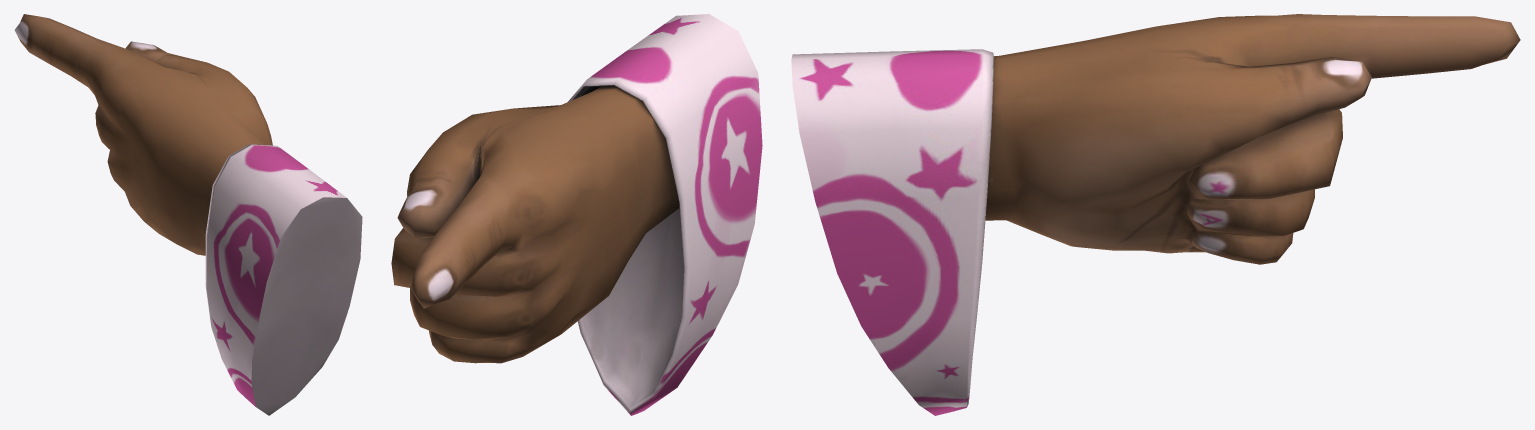
Rendered from avatar2-hand-left.glb.
3 renders of one model, left to right at view 1: azimuth 30°, elevation 25°; view 2: azimuth 150°, elevation 25°; view 3: azimuth 270°, elevation 25°, orthographic. The views are drawn at different scales.
Parts seen in each view (by area): view 1: hand-left; view 2: hand-left; view 3: hand-left.
Boxes of the visible parts, x1=… form: hand-left: x1=14, y1=14, x2=362, y2=415; hand-left: x1=391, y1=14, x2=762, y2=415; hand-left: x1=791, y1=14, x2=1520, y2=415.
Size of the model in its own units: 0.0982 by 0.2209 by 0.3782.
1 material, 1 textured.
